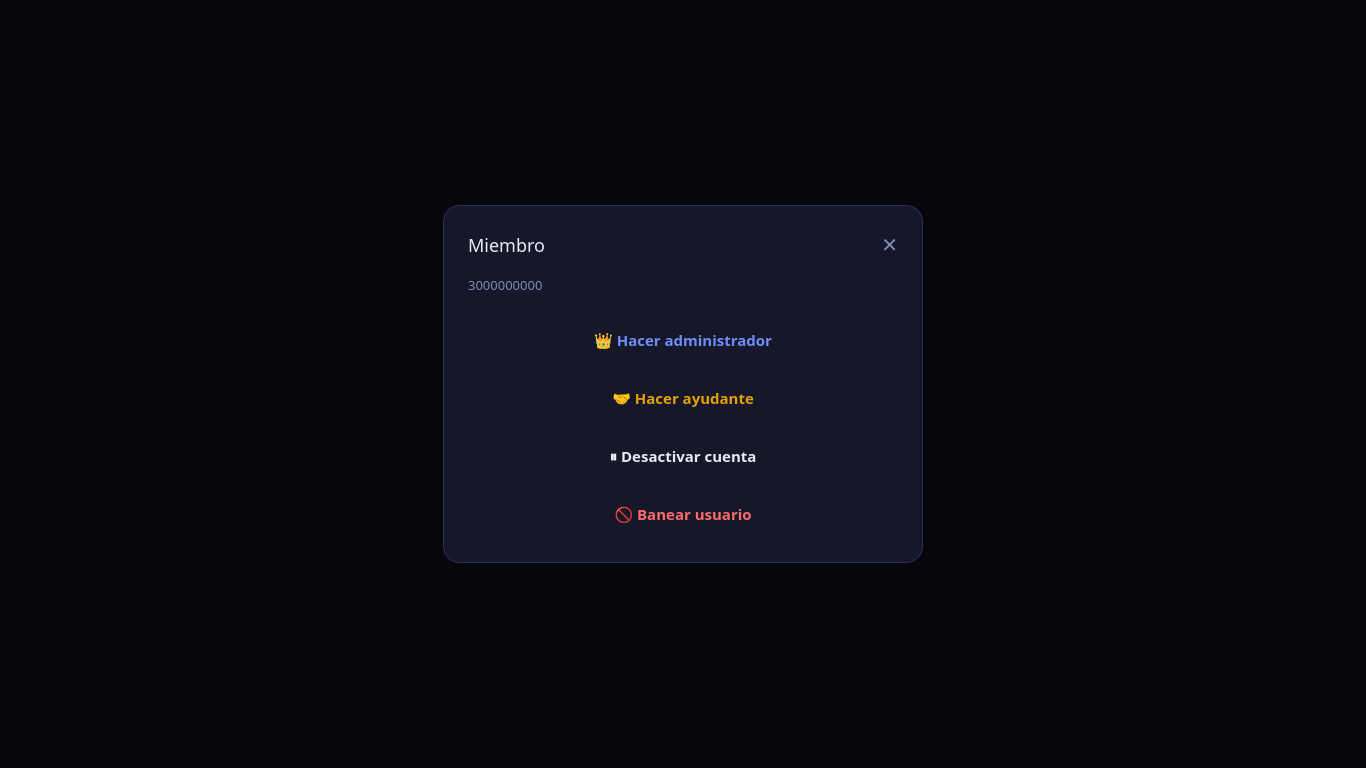
Test: ManageUserModal › bloquea acciones de rol mientras hay una solicitud pendiente
Double-click the button "👑 Hacer administrador" at (683, 340), box [468,316,898,364]
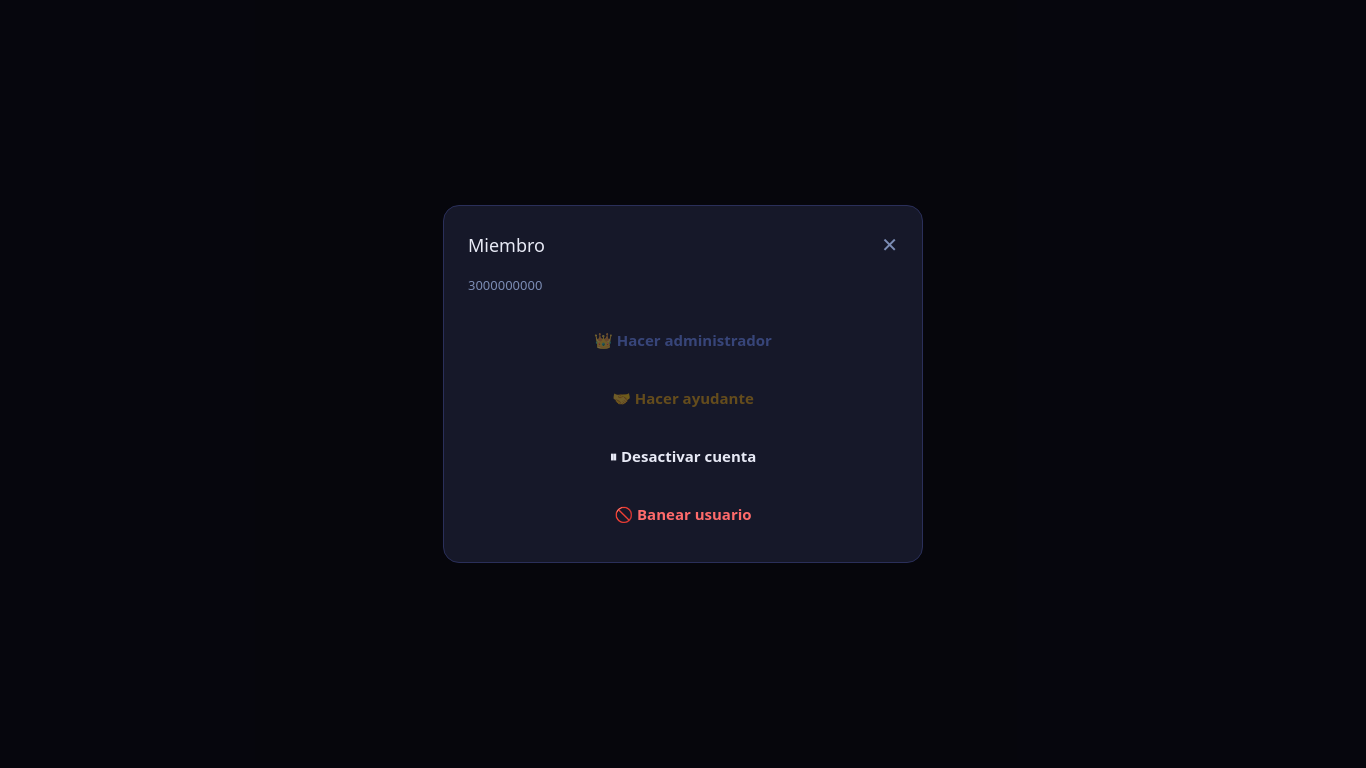
Expected: the button "👑 Hacer administrador" is disabled, [468,316,898,364]
